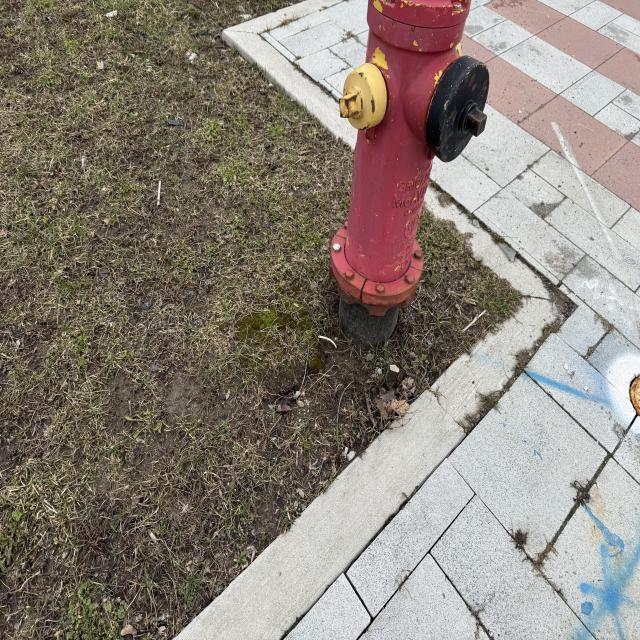Fire hydrant: (327, 0, 491, 319)
